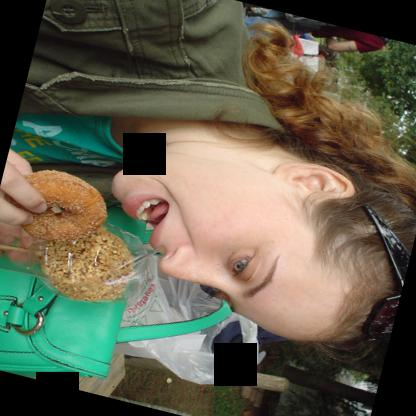handbag: (0, 256, 234, 380)
